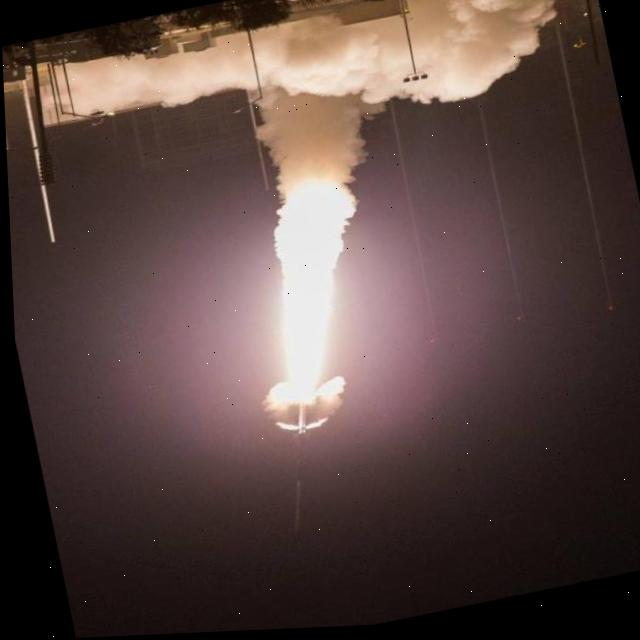missile: (220, 390, 351, 557)
